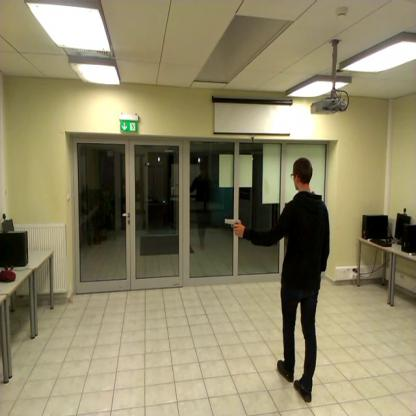Pistol: (219, 214, 245, 244)
